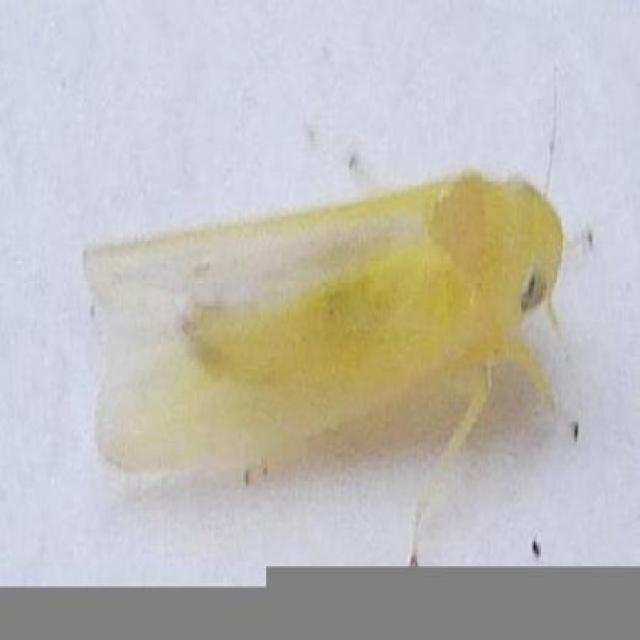green-leafhopper: (72, 186, 570, 463)
